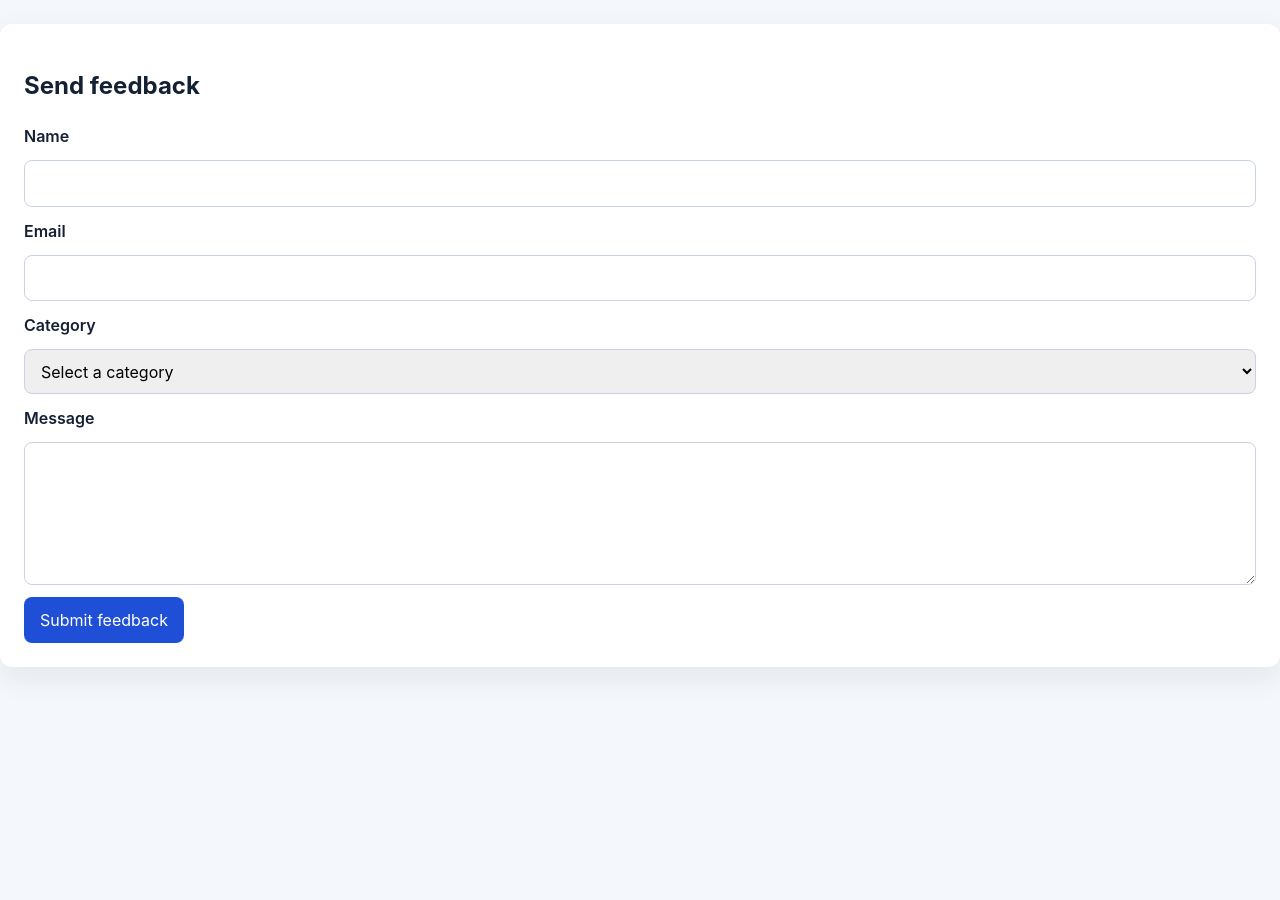
Test: FeedbackForm acceptance › shows the server error message when submission fails
In the field labelled "Name": {"x": 640, "y": 183} left=24, top=160, right=1256, bottom=207, type "Jane Doe"
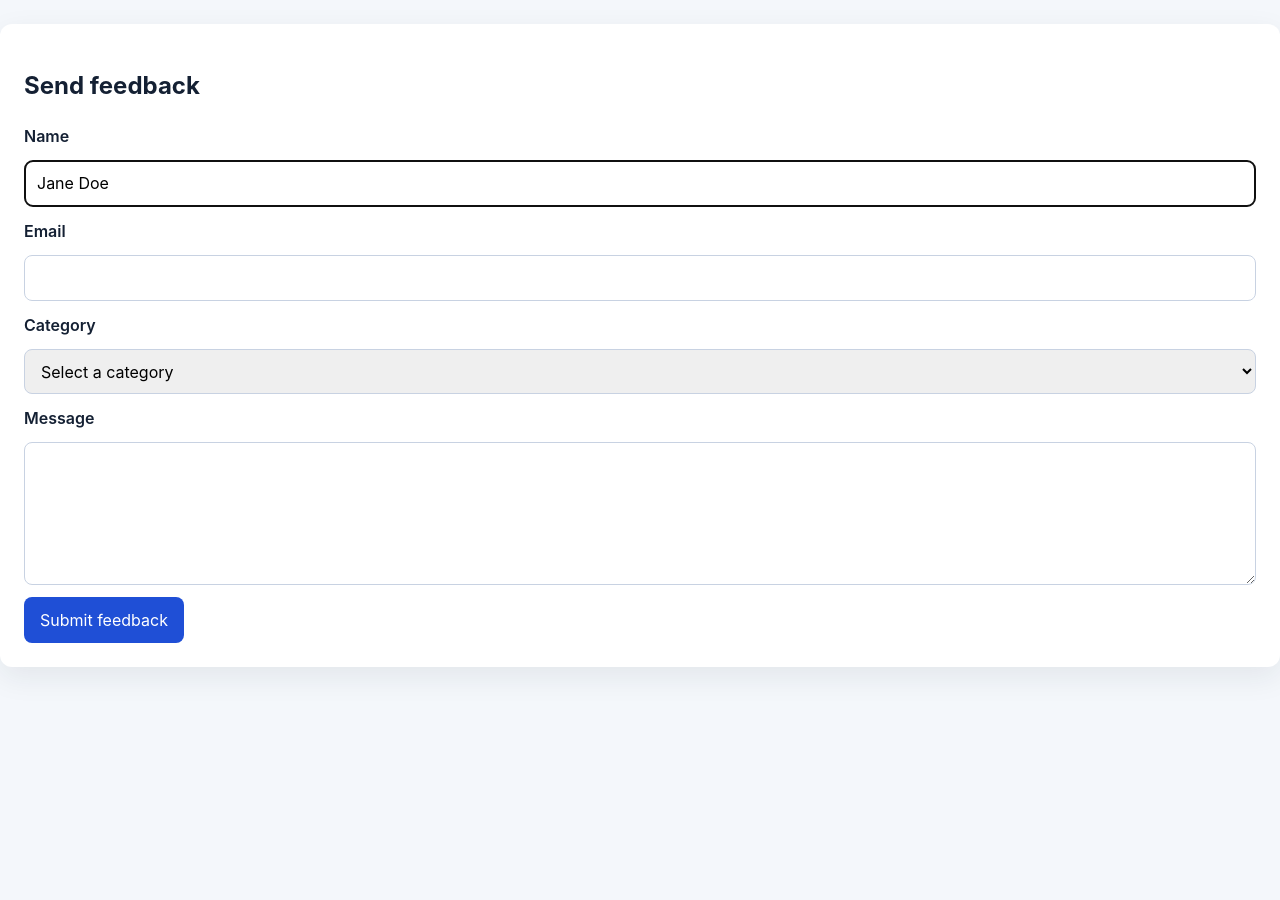
In the field labelled "Email": {"x": 640, "y": 278} left=24, top=255, right=1256, bottom=301, type "jane@example.com"
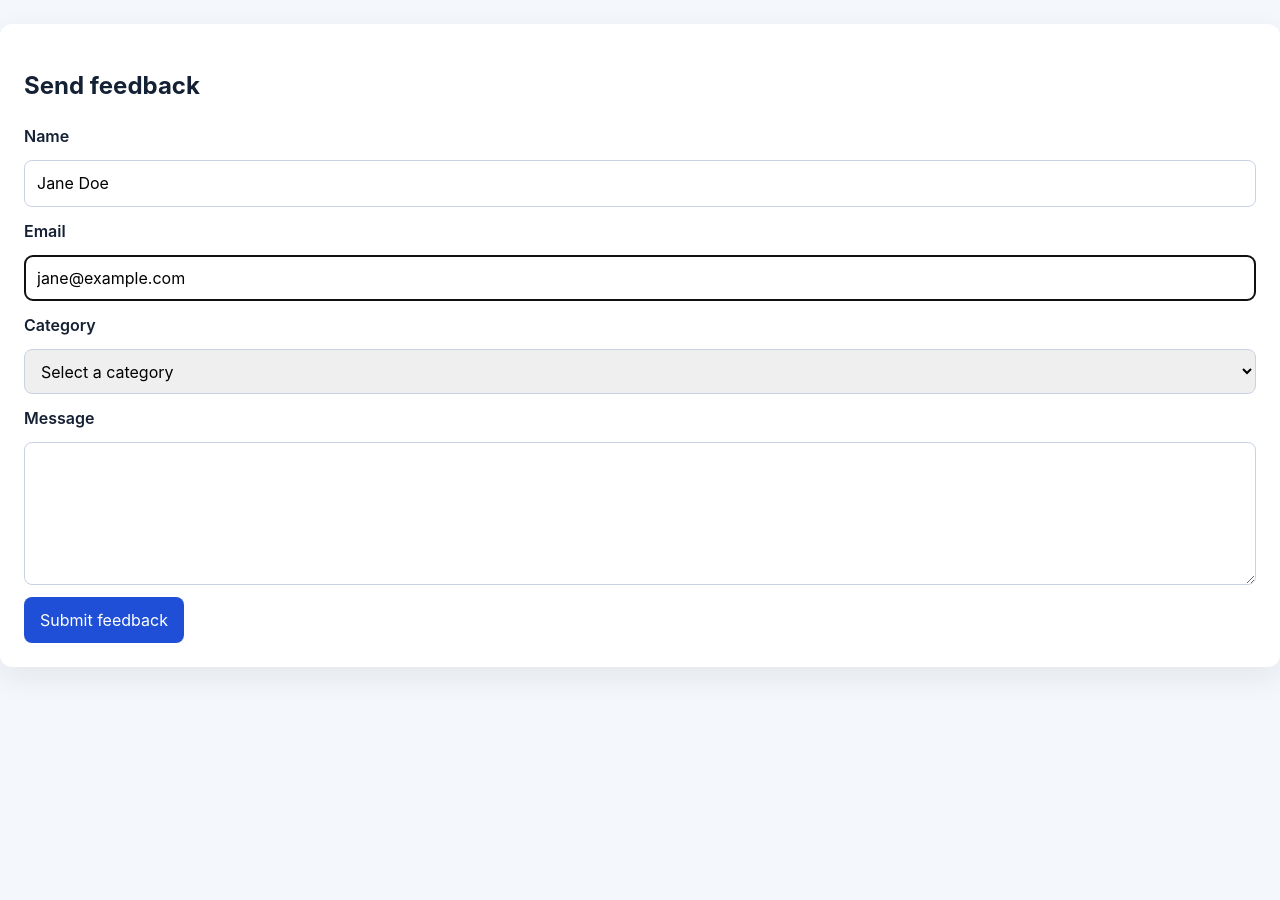
Select "Bug" in the dropdown labelled "Category": {"x": 640, "y": 372} left=24, top=349, right=1256, bottom=394
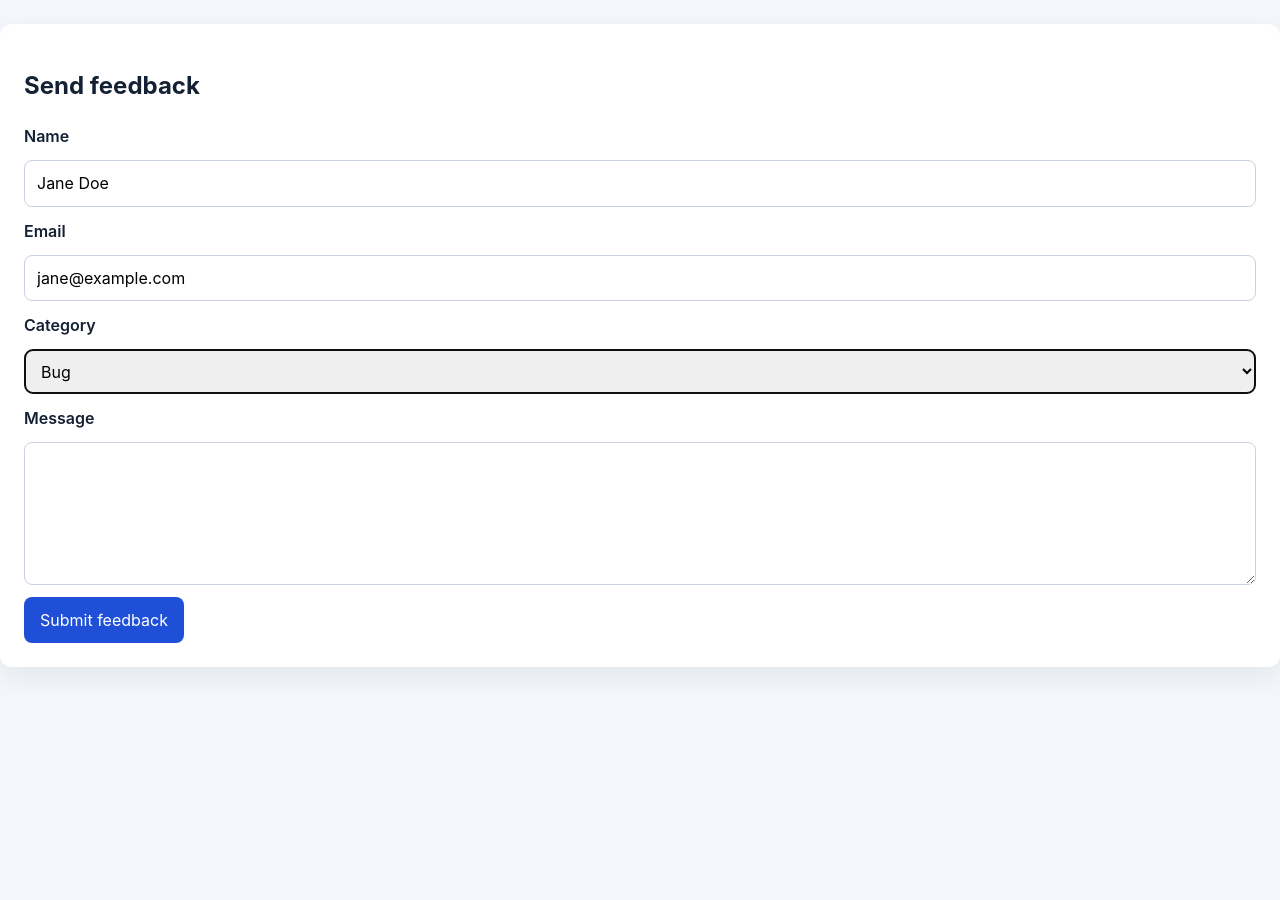
In the text box labelled "Message": {"x": 640, "y": 514} left=24, top=442, right=1256, bottom=585, type "The submit button does not work on mobile."
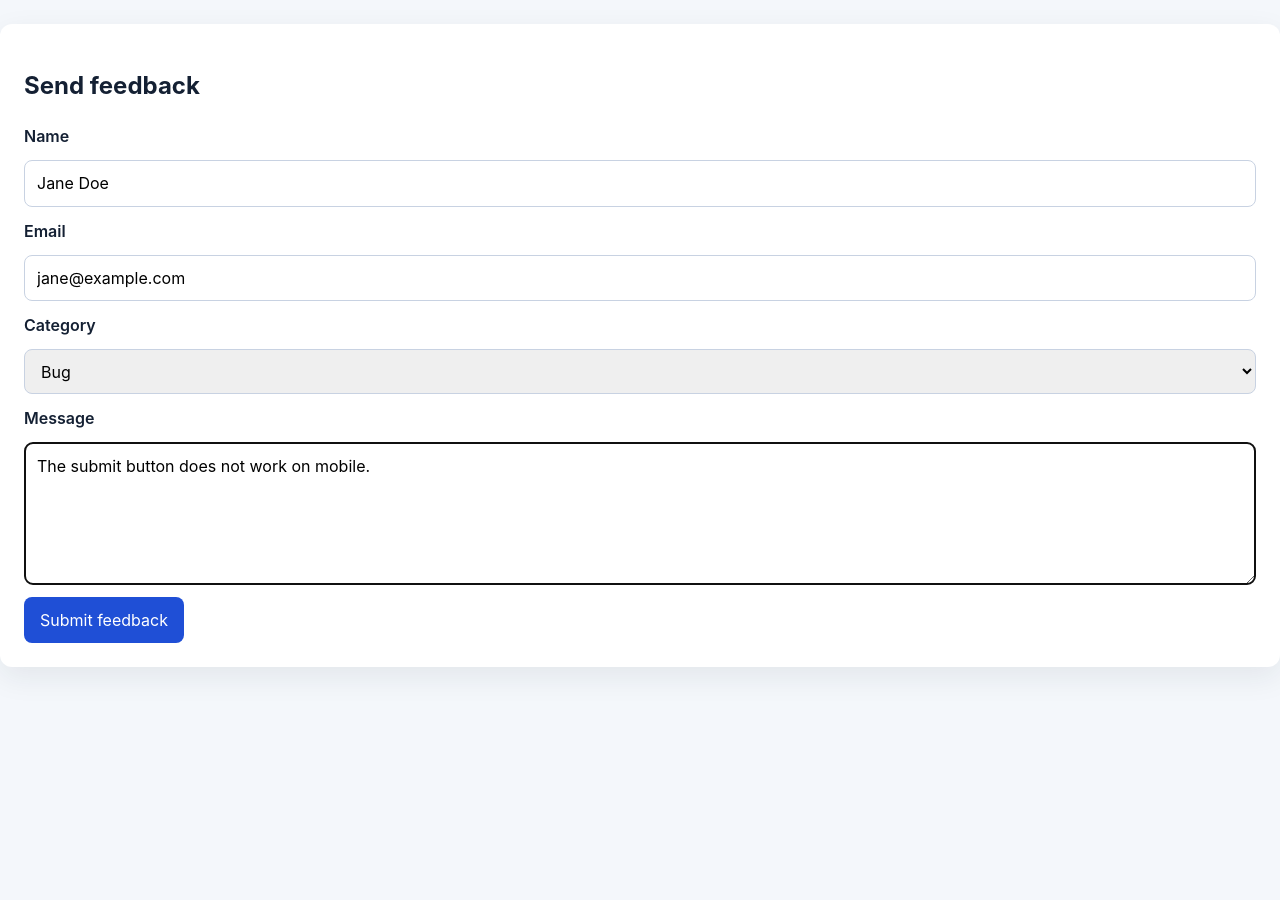
Click the button "Submit feedback": {"x": 104, "y": 620} left=24, top=597, right=184, bottom=643
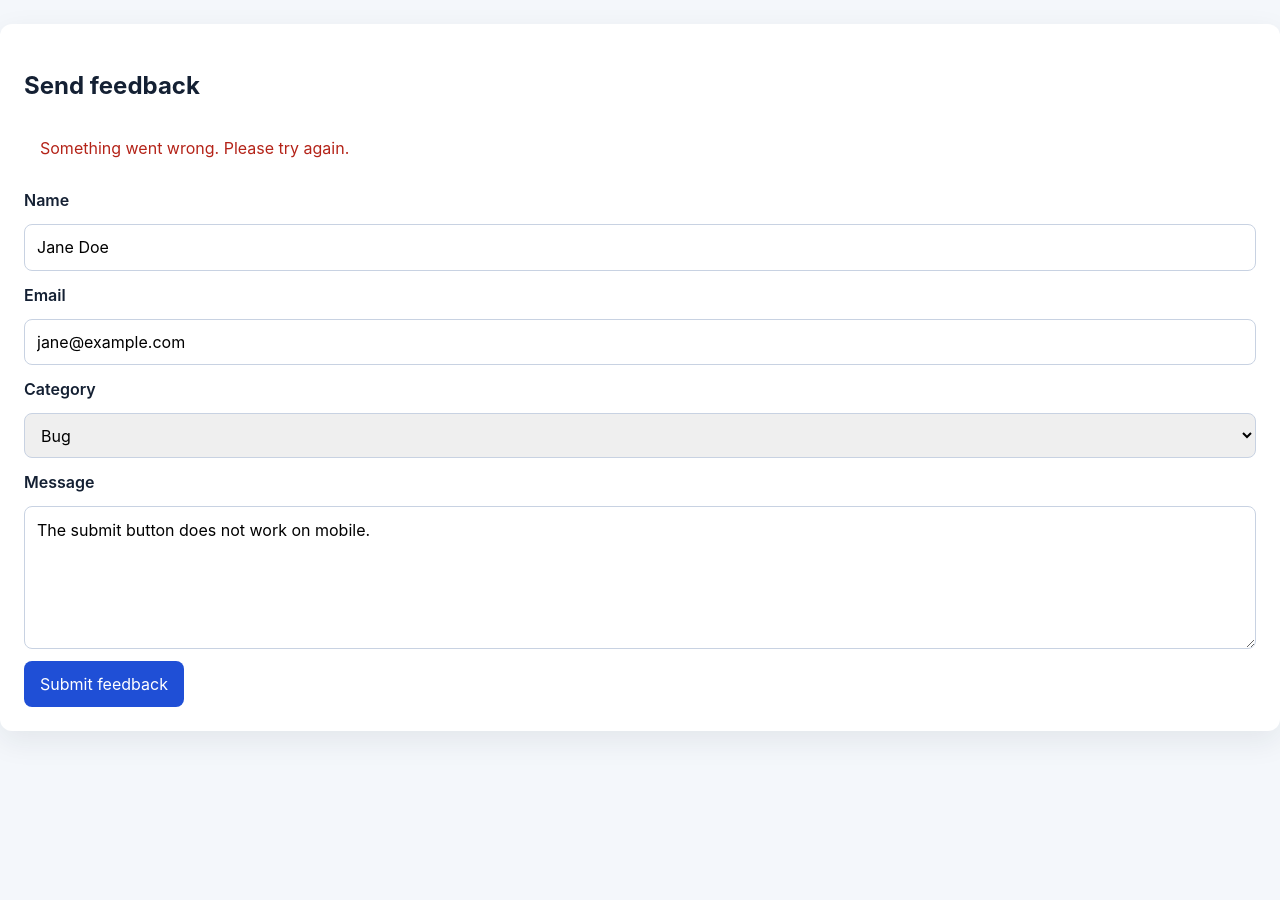
Check: the message reads "Something went wrong. Please try again.", box left=40, top=138, right=349, bottom=158
